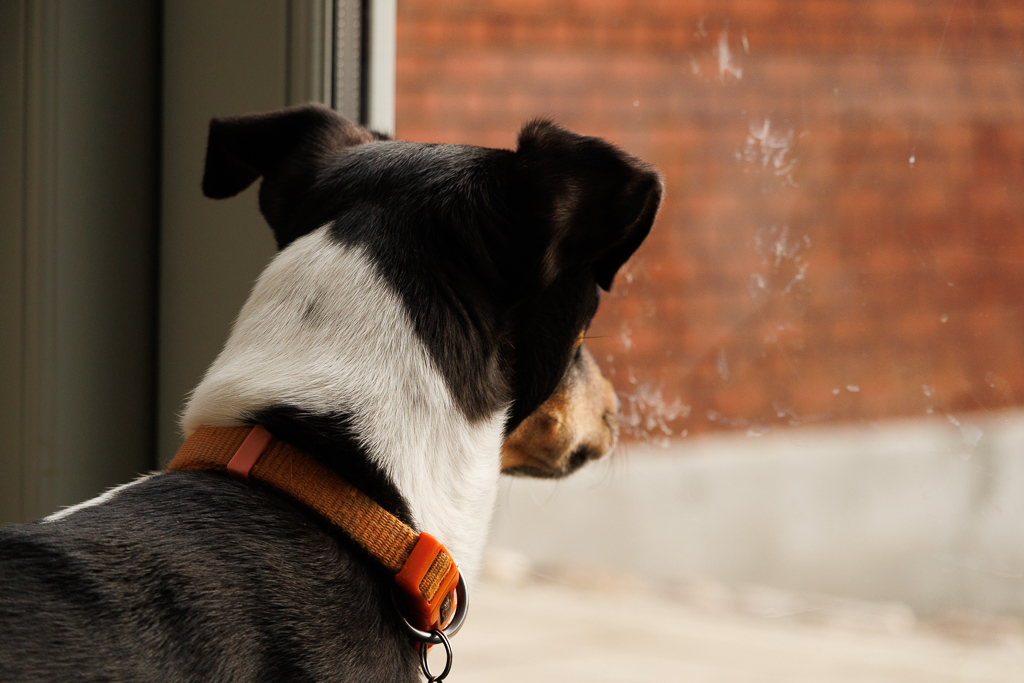Dog: (0, 95, 669, 683)
